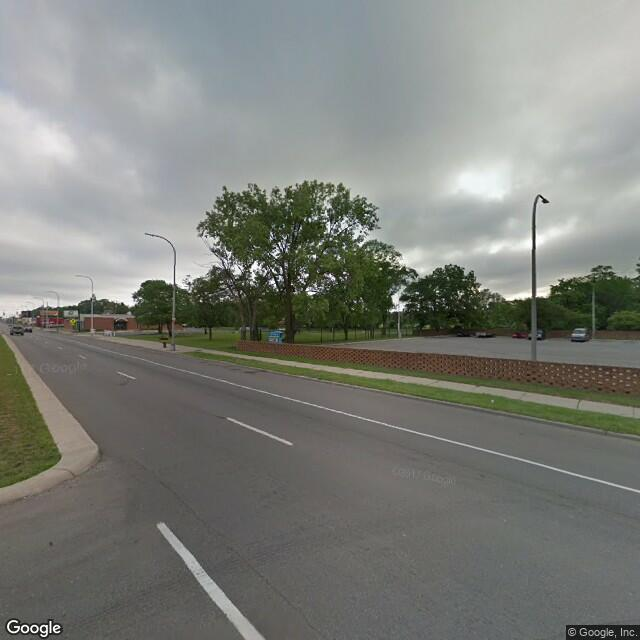litter: (489, 398, 498, 404)
